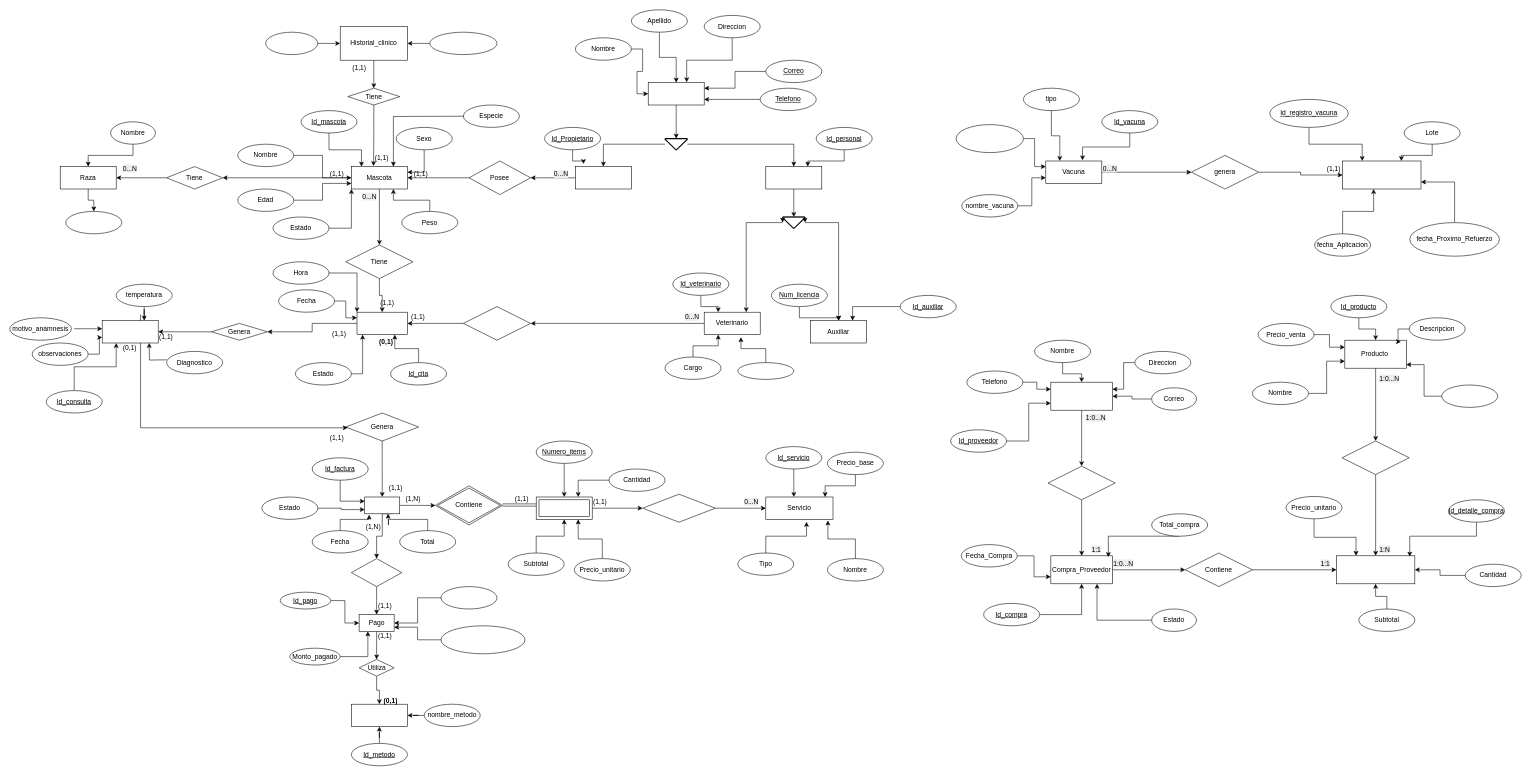
The diagram is 1531 pixels wide and 776 high, and some of its shapes have lost their labels. Each missing label, with the centre of its shape:
"Alergias_conocidas" belongs at (x=463, y=43).
"Aparece_en" belongs at (x=1375, y=457).
"Aplica" belongs at (x=678, y=508).
"Atiende" belongs at (x=497, y=323).
"Cita" belongs at (x=381, y=323).
"Consulta_Medica" belongs at (x=130, y=331).
"Detalle_compra" belongs at (x=1375, y=569).
"detalle_Factura" belongs at (x=564, y=507).
"Dosis_recomendada" belongs at (x=989, y=138).
"Especialidad" belongs at (x=765, y=370).
"Factura" belongs at (x=382, y=505).
"Fecha_pago" belongs at (x=468, y=597).
"Id_Historial" belongs at (x=291, y=43).
"Id_raza" belongs at (x=93, y=222).
"Metodo_pago" belongs at (x=379, y=715).
"Persona" belongs at (x=676, y=93).
"Personal" belongs at (x=793, y=177).
"Propietario" belongs at (x=603, y=177).
"Proveedor" belongs at (x=1081, y=396).
"recibe" belongs at (x=376, y=572).
"Referencia_transaccion" belongs at (x=482, y=639).
"Regirstro_vacunación" belongs at (x=1381, y=174).
"stock_actual" belongs at (x=1469, y=395).
"Suministra" belongs at (x=1081, y=483).
